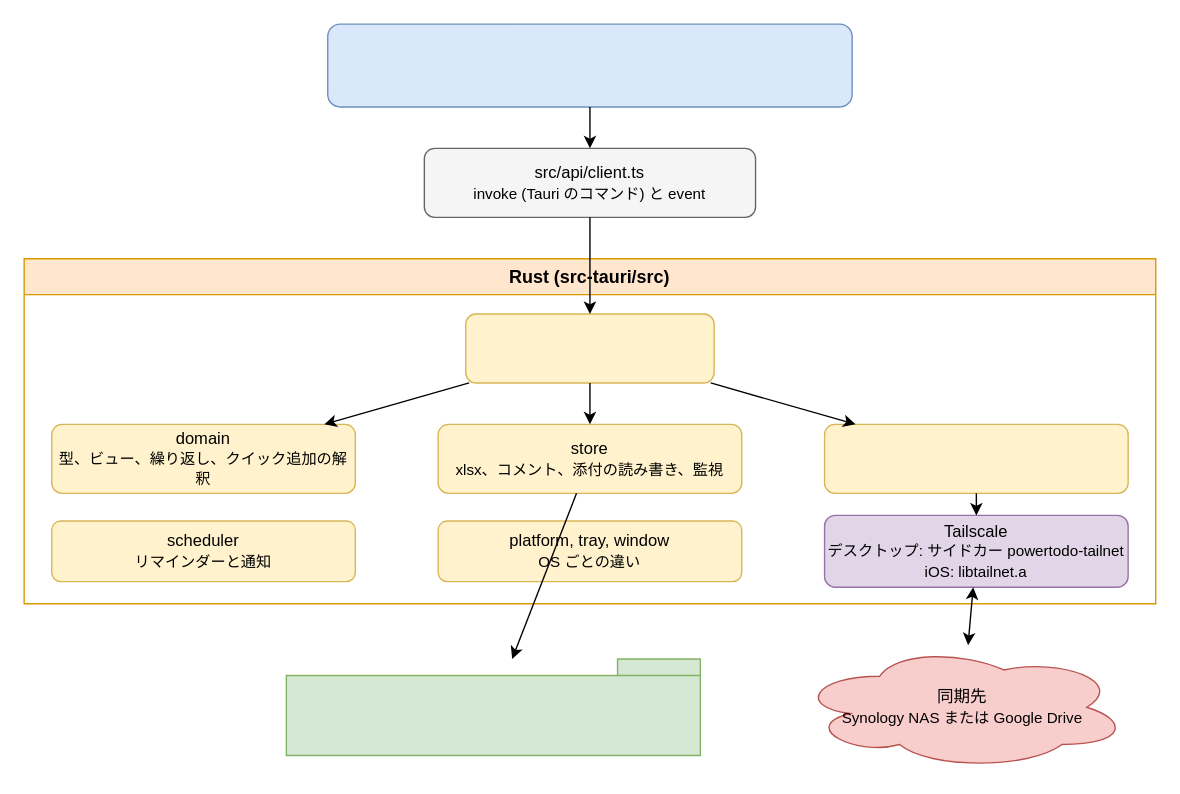
Image size: 1180x794. Some labels were removed from this diagram. Each missing label, with the centre of its shape:
"commands 画面から呼ぶ入口" belongs at pixel 589 348.
"sync NAS (WebDAV) / Google Drive、合わせ" belongs at pixel 975 458.
"データフォルダ *.xlsx, _PowerToDo.xlsx, _comments/, _attachments/, archive/" belongs at pixel 492 707.
"画面 (React + TypeScript) src/views, src/components, src/app" belongs at pixel 589 65.
